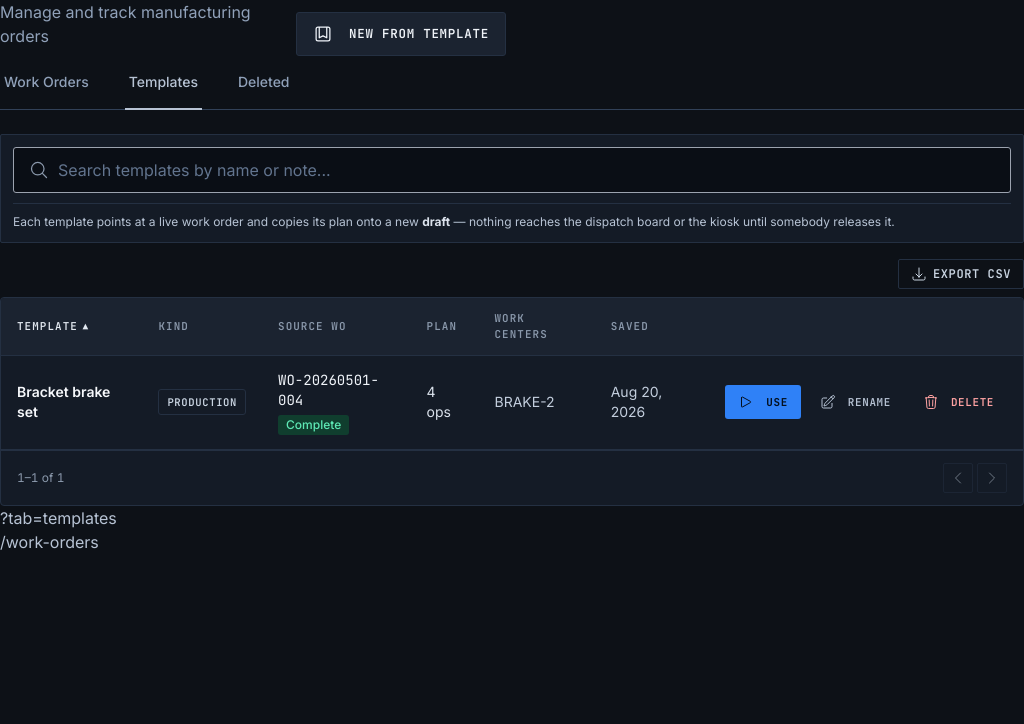
Test case: WorkOrders: where a template use hands off to › navigates to the new draft when ONE was created
This screenshot has width=1024, height=724.
Check: the text "Bracket brake set" is shown, box [17,382,126,422]
What coordinates should you click on to do the following:
click the button with aria-label "Use template Bracket brake set"
I would click on:
 (763, 402)
Its box is [725,385,801,419].
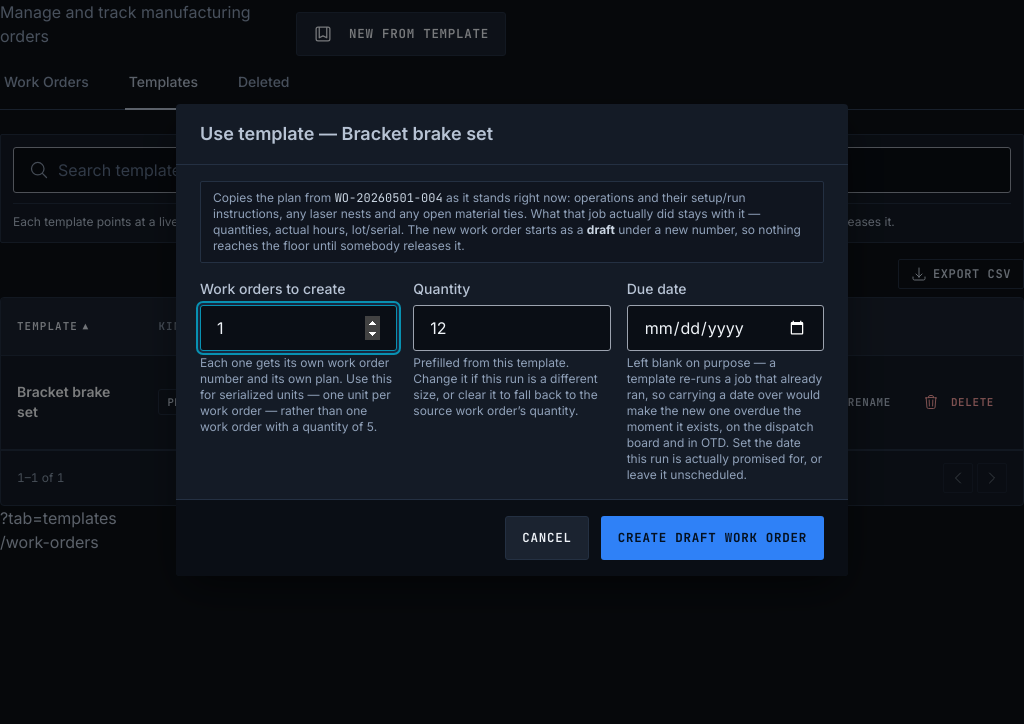
Check: the heading "Use template — Bracket brake set" is shown, box [200,120,493,148]
What coordinates should you click on to do the following:
click the button "Create draft work order"
I would click on:
 (712, 538)
Its box is [601,516,824,560].
(page scrolled)
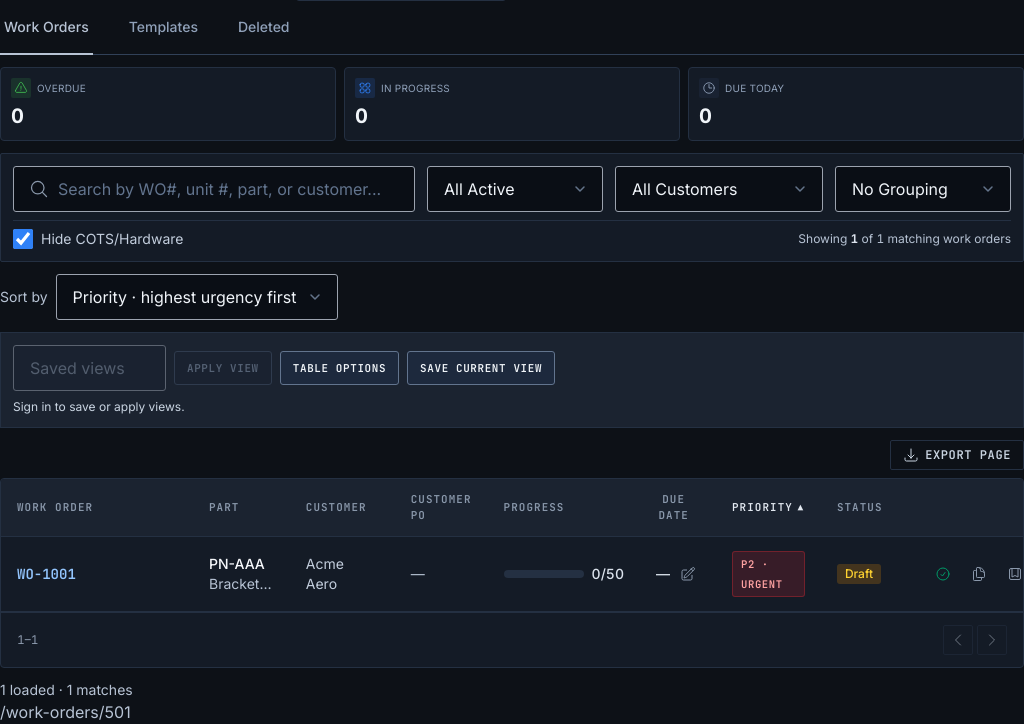
Check: the text with test id "location-pathname" reads "/work-orders/501", box [0,702,131,722]
